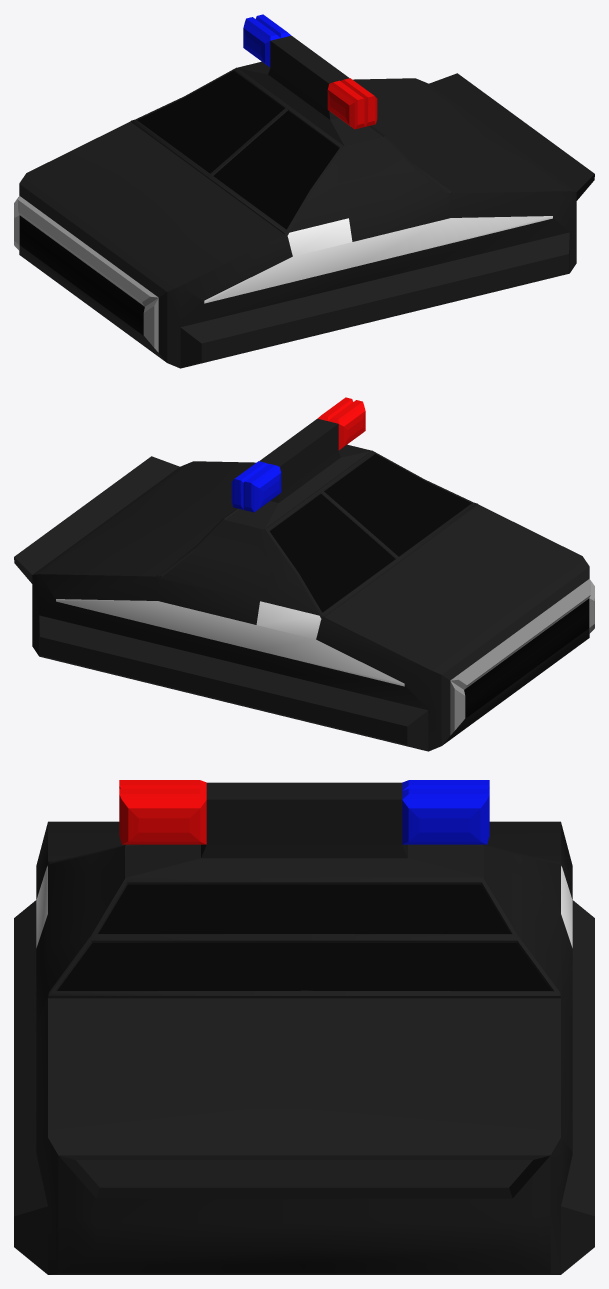
The model's file is POLICIA.FBX.
3 renders of one model, top to bottom at view 1: azimuth 30°, elevation 25°; view 2: azimuth 150°, elevation 25°; view 3: azimuth 270°, elevation 25°, orthographic. The views are drawn at different scales.
Parts seen in each view (by area): view 1: Box001; view 2: Box001; view 3: Box001.
Part boxes in pixels (bbox=[...]): Box001: bbox=[14, 14, 594, 368]; Box001: bbox=[14, 397, 594, 751]; Box001: bbox=[14, 780, 594, 1274].
Bounding box in the file's own units: 224 × 96.34 × 149.
